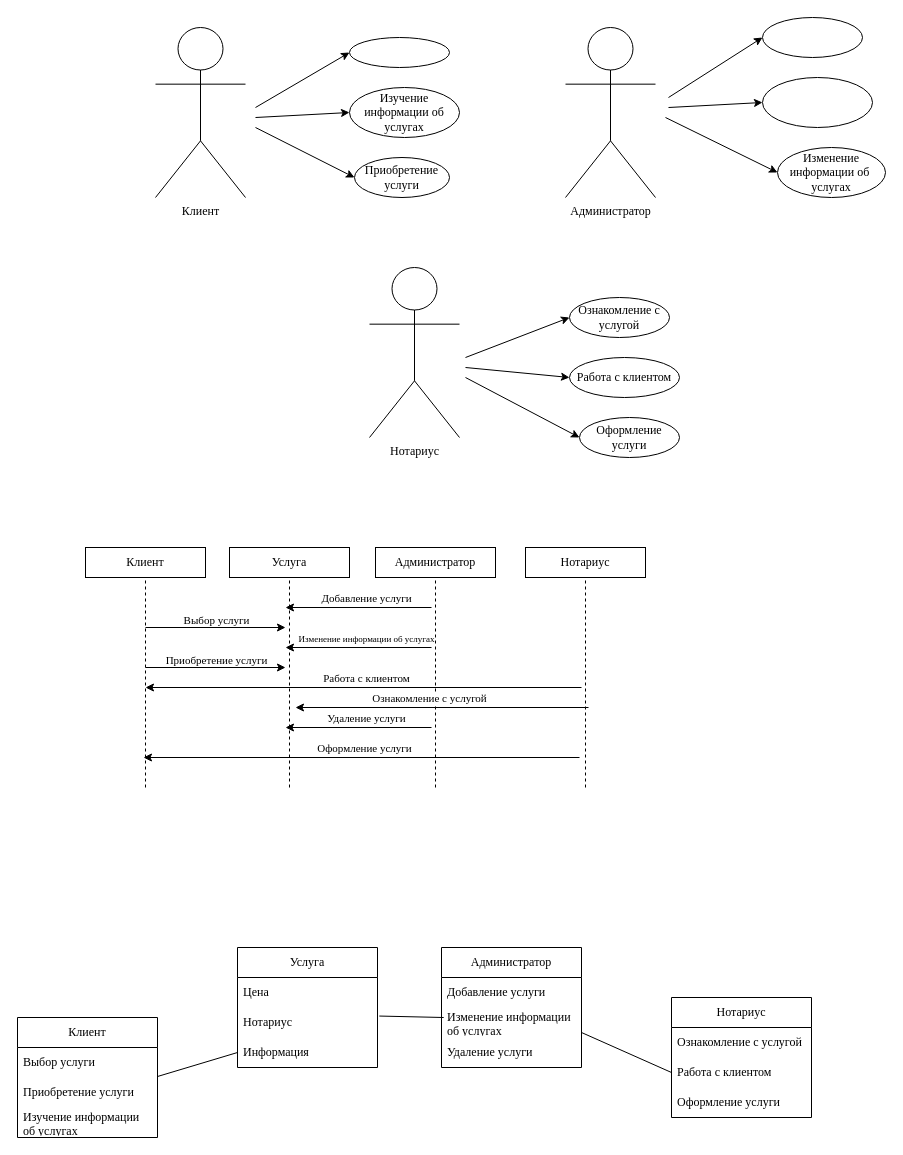
Some shapes in this 903 by 1155 pixel diagram are drawn without their labels. Here are the shapes that lost their labels. From the top down, the centre of each, then its label:
the point at 399,52: Просмотр услуг
the point at 812,37: Добавление услуг
the point at 817,102: Удаление услуг
